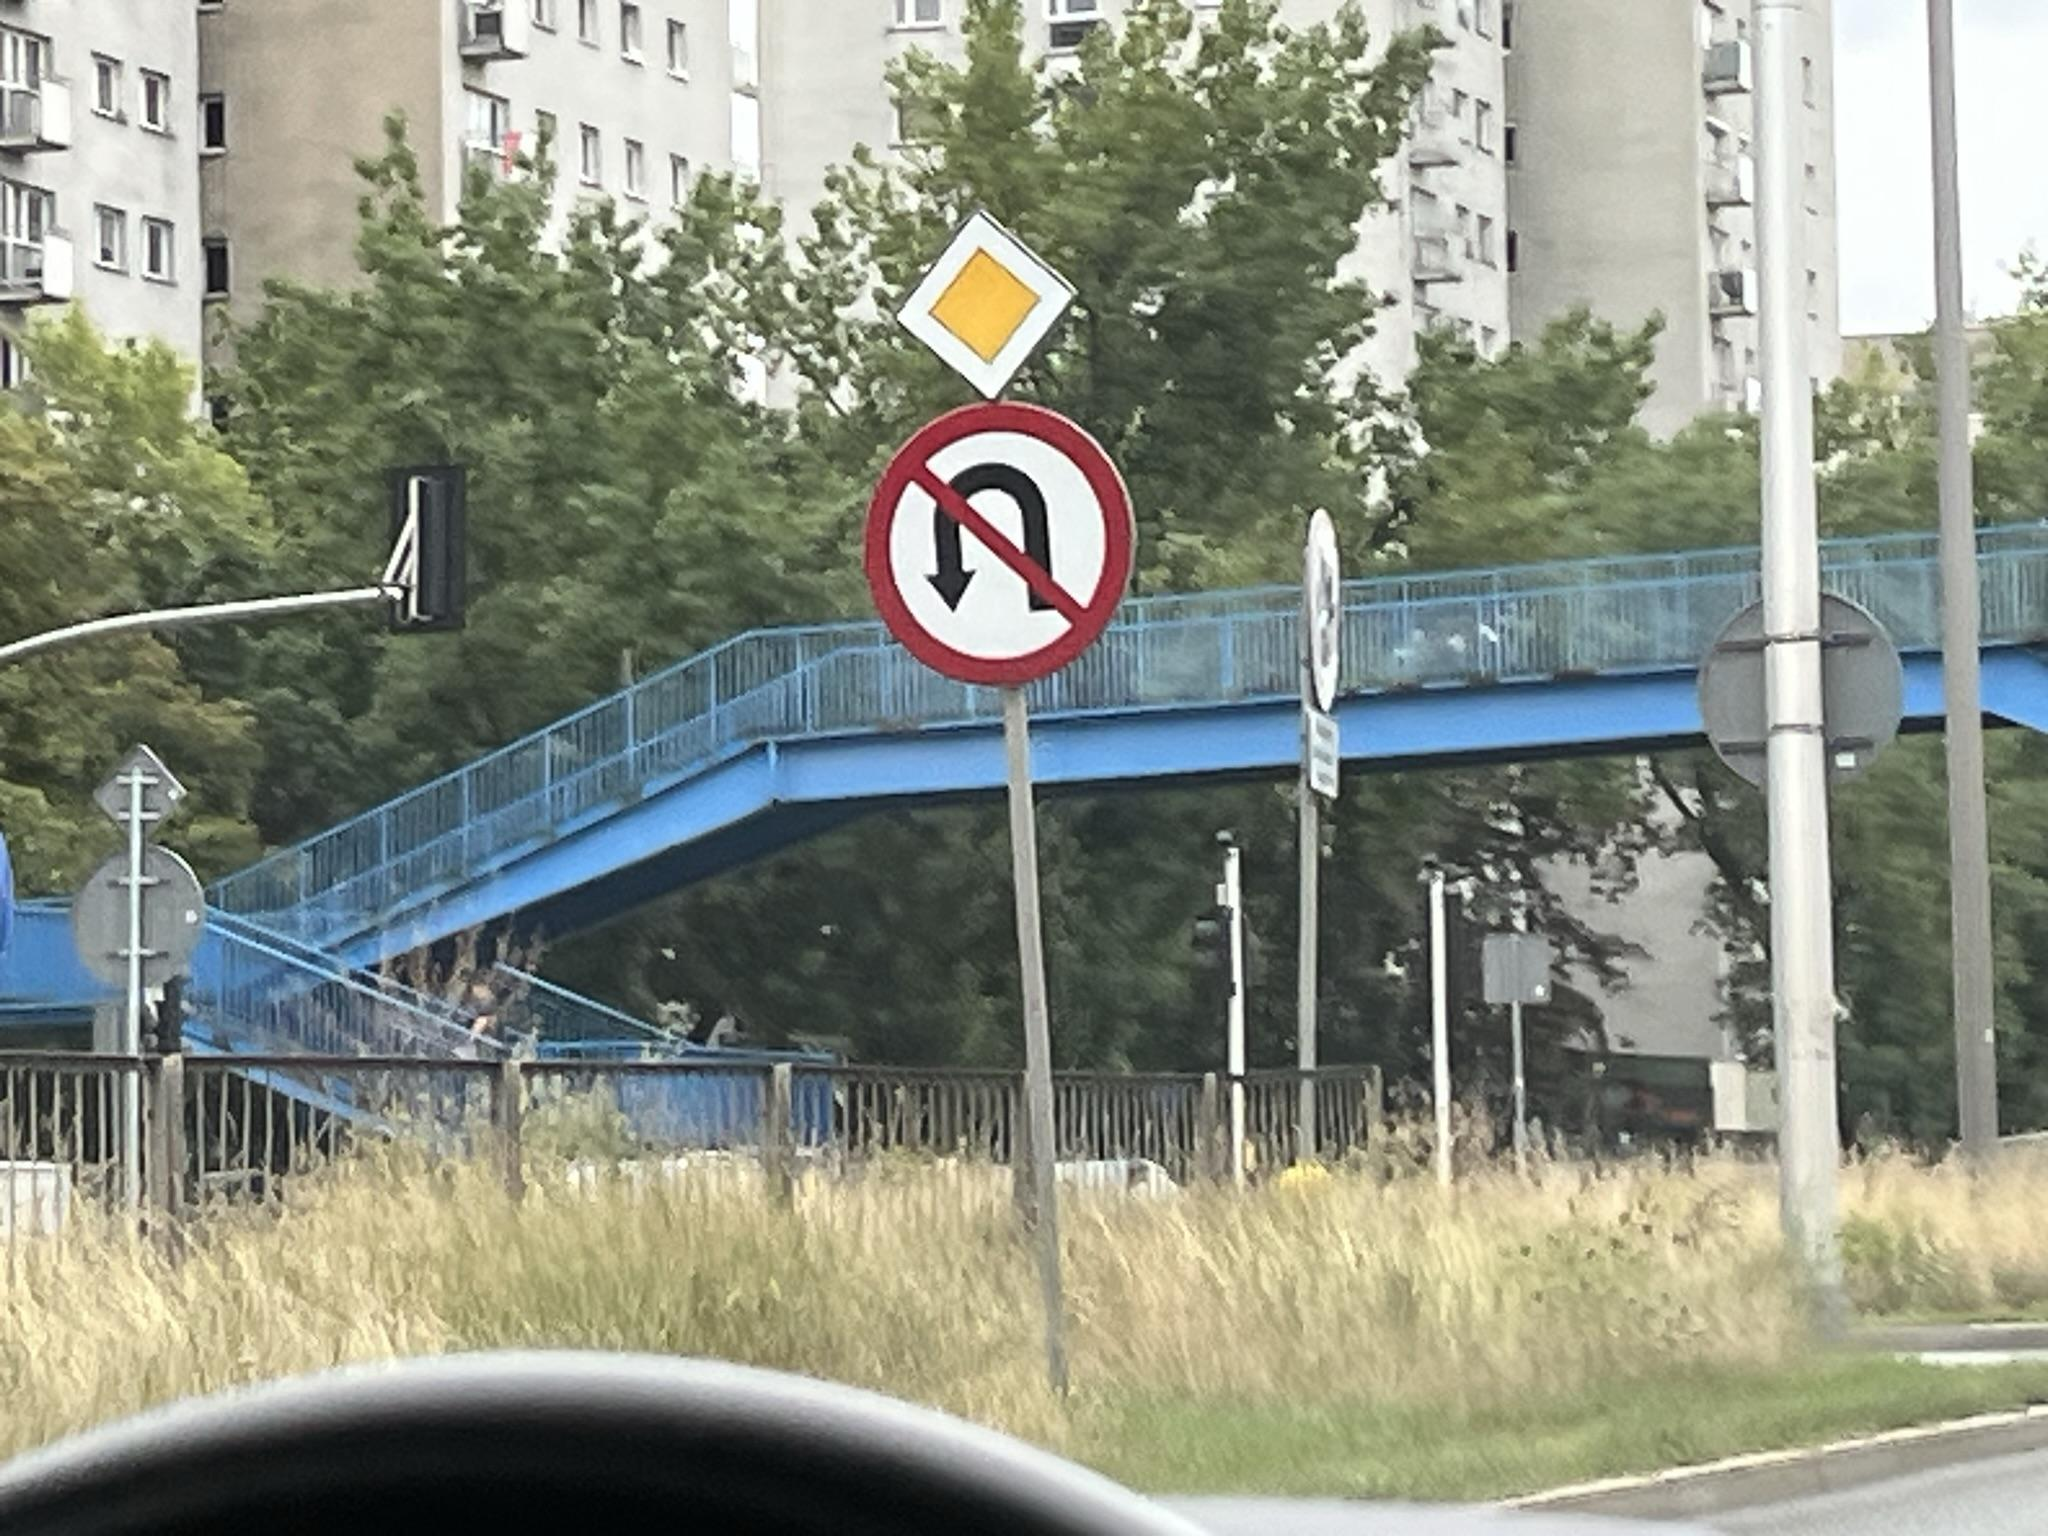information: (898, 207, 1082, 402)
prohibitory: (860, 395, 1140, 692)
